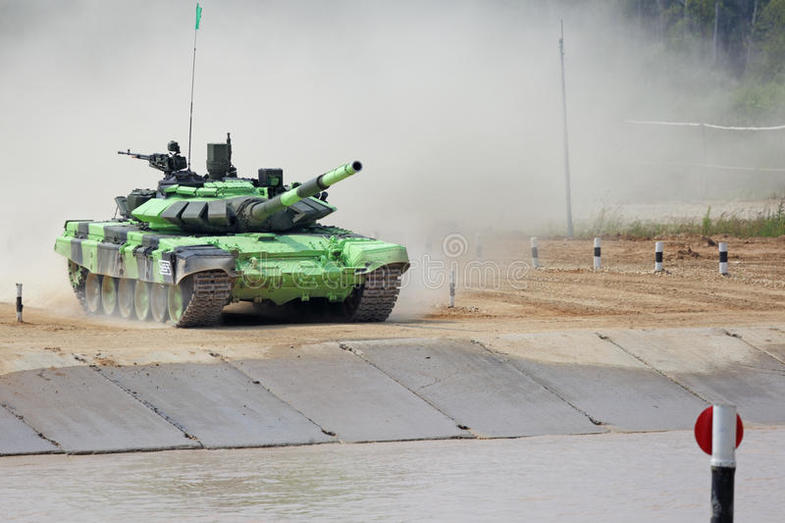t72: (63, 153, 415, 330)
